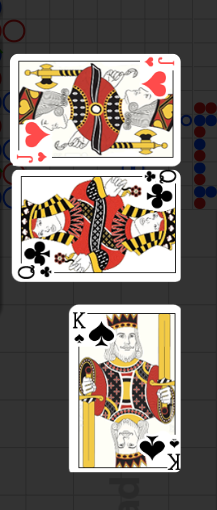JH: (143, 55, 175, 68)
KS: (71, 310, 88, 347), (166, 436, 181, 471)
QC: (134, 171, 181, 215), (14, 238, 60, 282)
